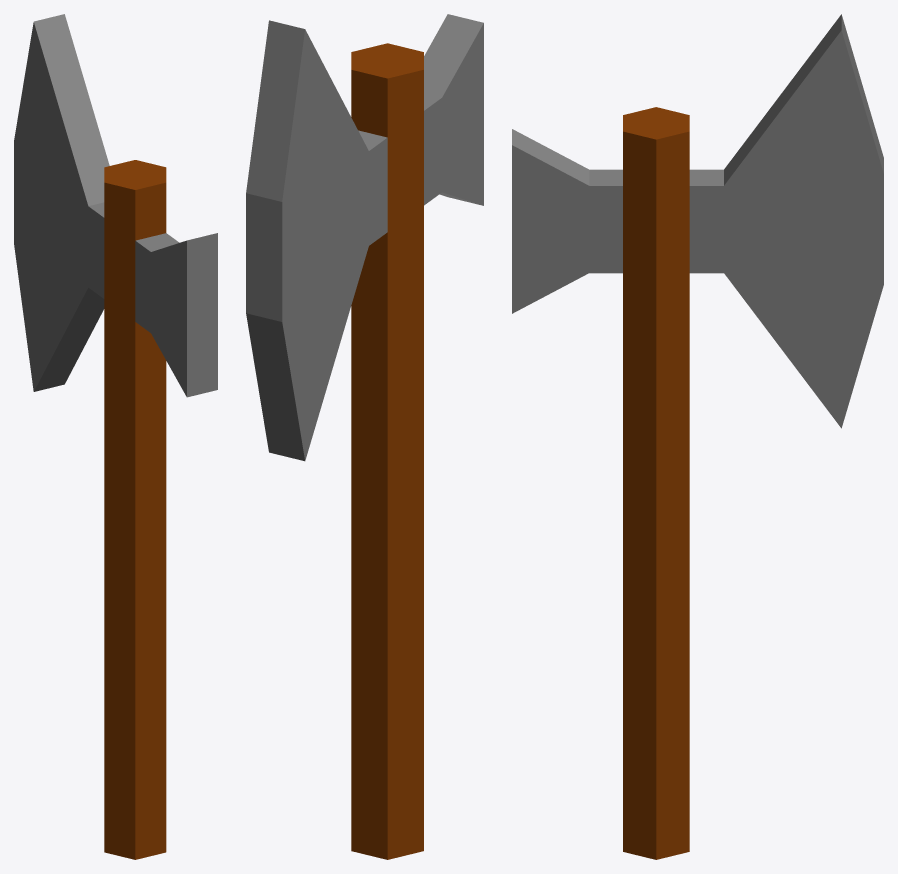
The model's file is kirves.FBX.
3 renders of one model, left to right at view 1: azimuth 30°, elevation 25°; view 2: azimuth 150°, elevation 25°; view 3: azimuth 270°, elevation 25°, orthographic. The views are drawn at different scales.
Visible parts, largest first — view 1: kirves; view 2: kirves; view 3: kirves.
Boxes of the visible parts, x1,y1,x2,y2 form: kirves: [14, 14, 217, 859]; kirves: [246, 14, 483, 859]; kirves: [512, 14, 883, 859].
Bounding box in the file's own units: 6.81 × 80.04 × 32.84.
